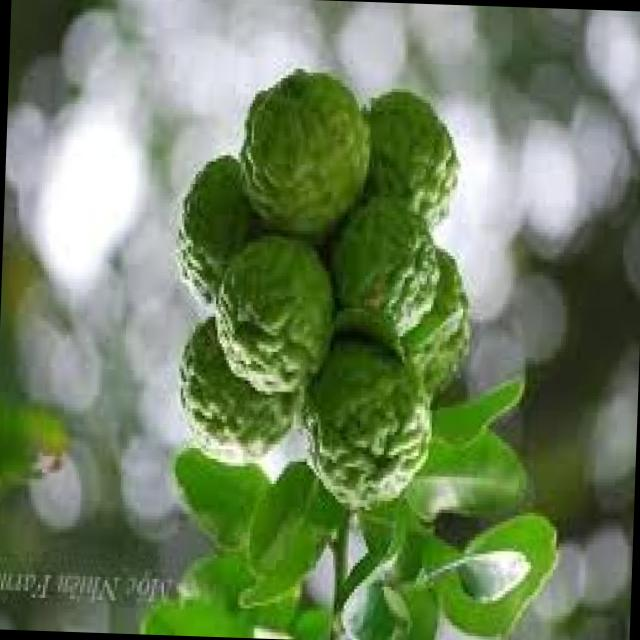Chuc: (300, 337, 437, 516), (237, 70, 374, 242), (212, 234, 339, 400), (176, 319, 306, 468), (328, 195, 444, 344), (168, 149, 258, 310), (364, 91, 465, 232), (396, 243, 478, 396)
